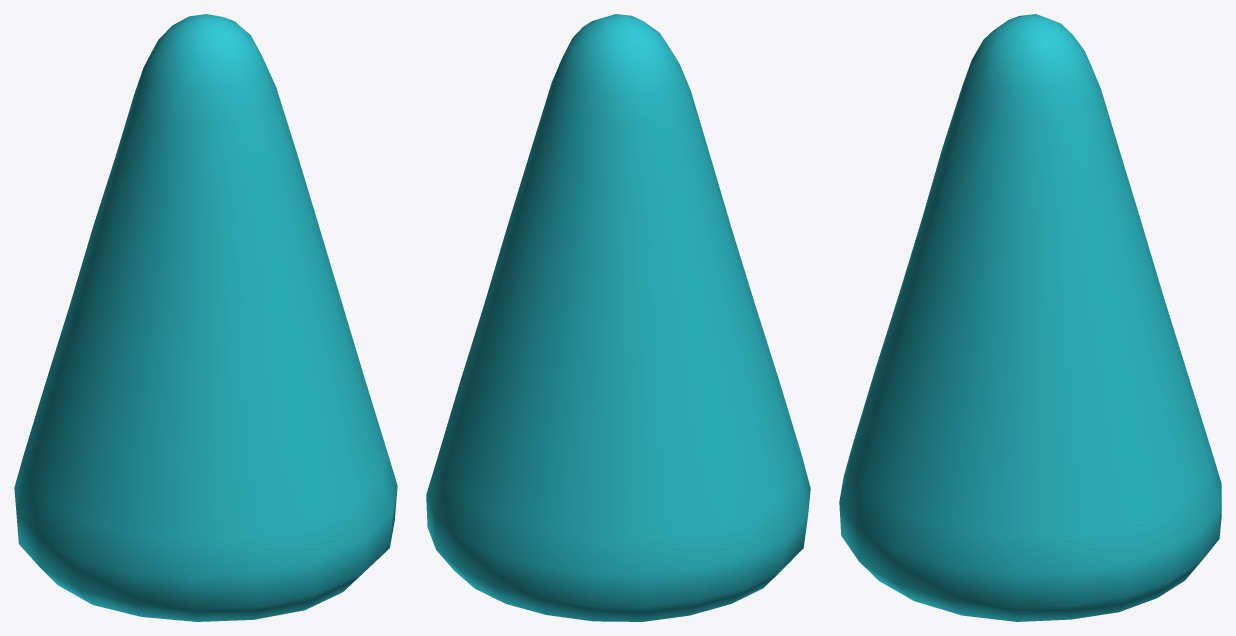
File: pic_01.fbx
3 views of the same model, side by side, from view 1: azimuth 30°, elevation 25°; view 2: azimuth 150°, elevation 25°; view 3: azimuth 270°, elevation 25° (orthographic).
Visible parts, largest first — view 1: Cone001; view 2: Cone001; view 3: Cone001.
Boxes of the visible parts, x1,y1,x2,y2 form: Cone001: [14, 14, 397, 621]; Cone001: [426, 14, 810, 621]; Cone001: [839, 14, 1221, 621].
Bounding box in the file's own units: 240 × 383 × 239.
